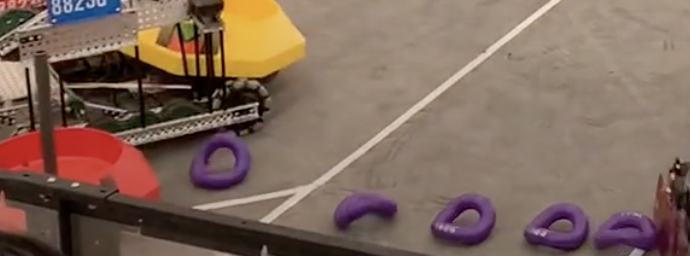ring: (190, 133, 252, 190), (431, 192, 496, 245), (523, 202, 590, 251), (333, 192, 398, 231), (594, 212, 657, 251)
